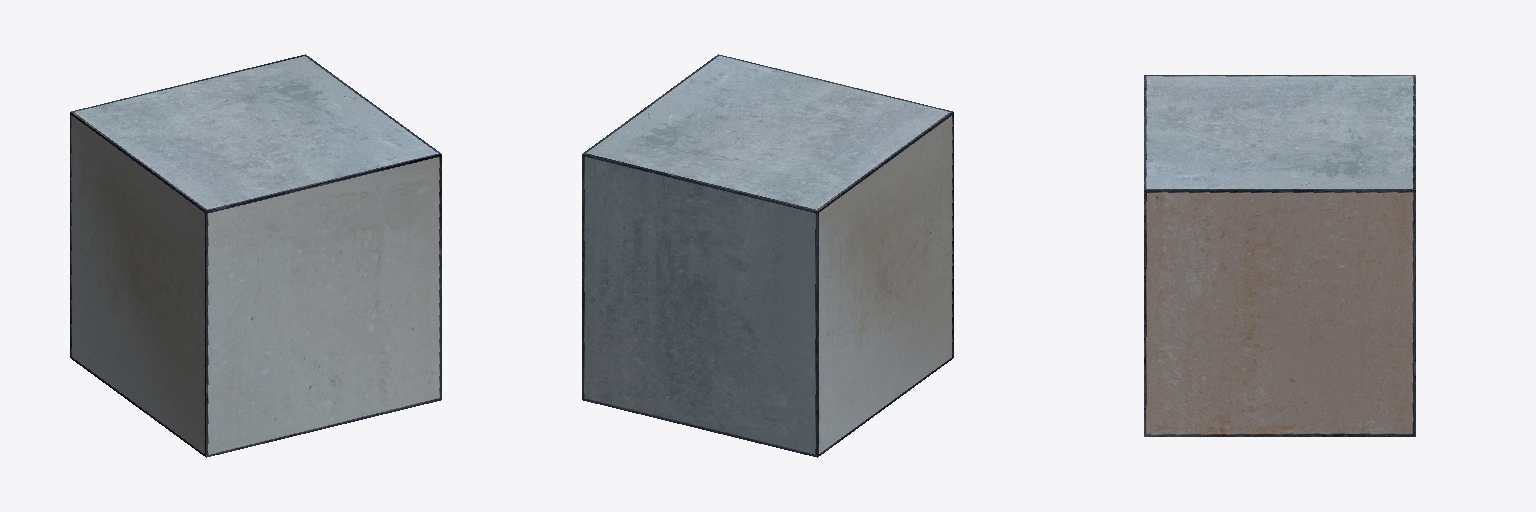
3 renders of one model, left to right at view 1: azimuth 30°, elevation 25°; view 2: azimuth 150°, elevation 25°; view 3: azimuth 270°, elevation 25°, orthographic.
Parts seen in each view (by area): view 1: Cube; view 2: Cube; view 3: Cube.
Part boxes in pixels (x1,y1,x2,y2): Cube: (70,54,441,457); Cube: (582,54,953,457); Cube: (1144,75,1415,436).
Bounding box in the file's own units: 2 × 2 × 2.
Materials: 1 (1 with a texture image).